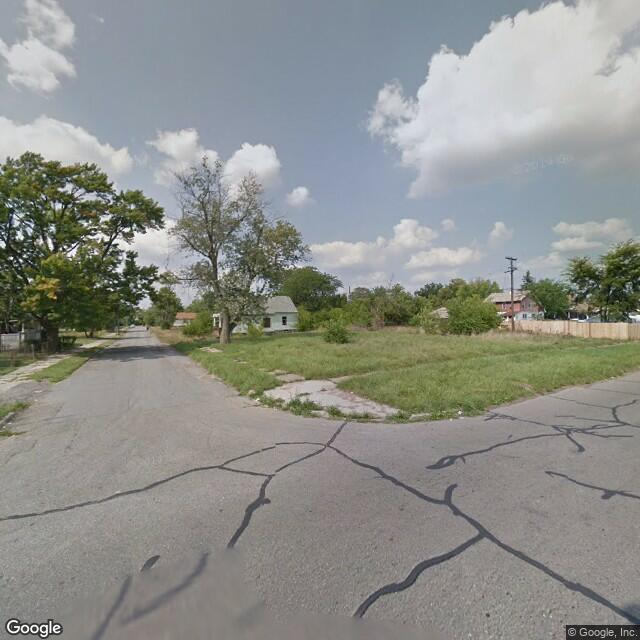litter: (254, 394, 261, 402), (449, 417, 455, 423), (459, 409, 463, 416), (349, 390, 357, 393)
